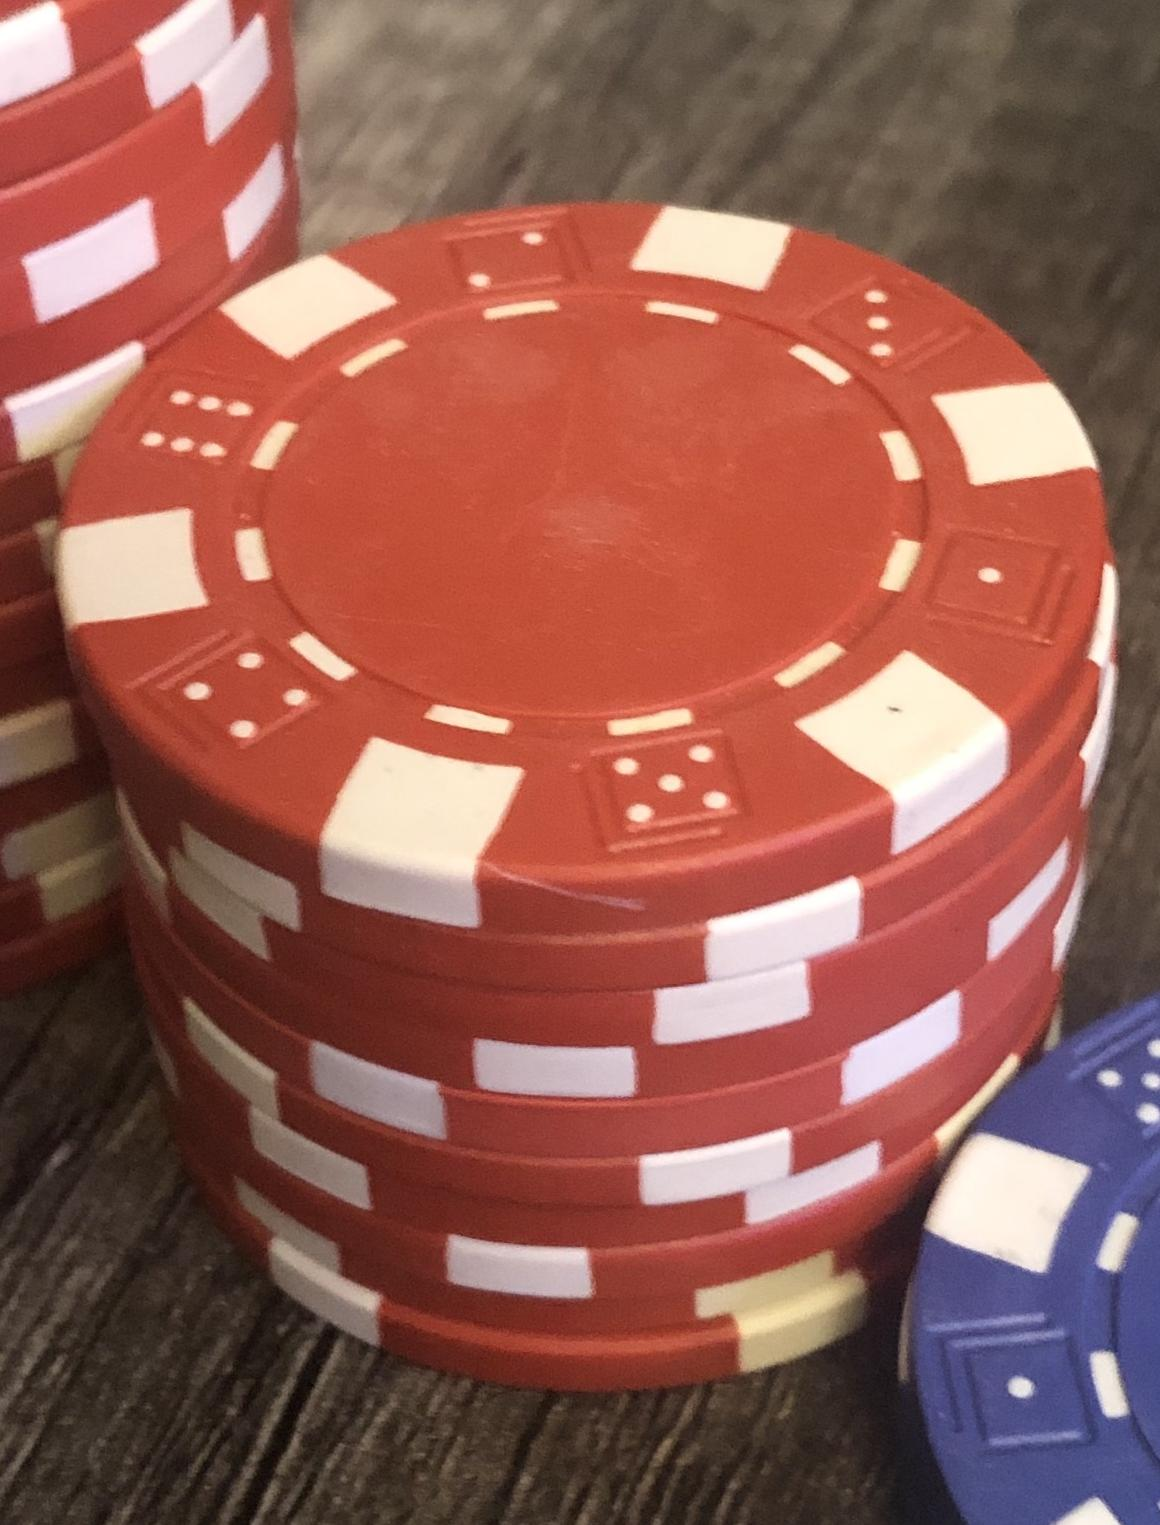Chip: (1, 1, 1160, 1525)
